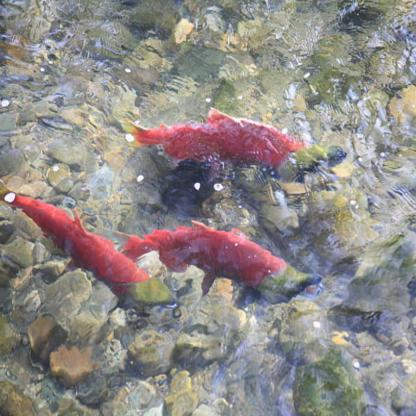sockeye: (0, 186, 171, 319), (130, 114, 345, 171), (132, 233, 319, 275)
